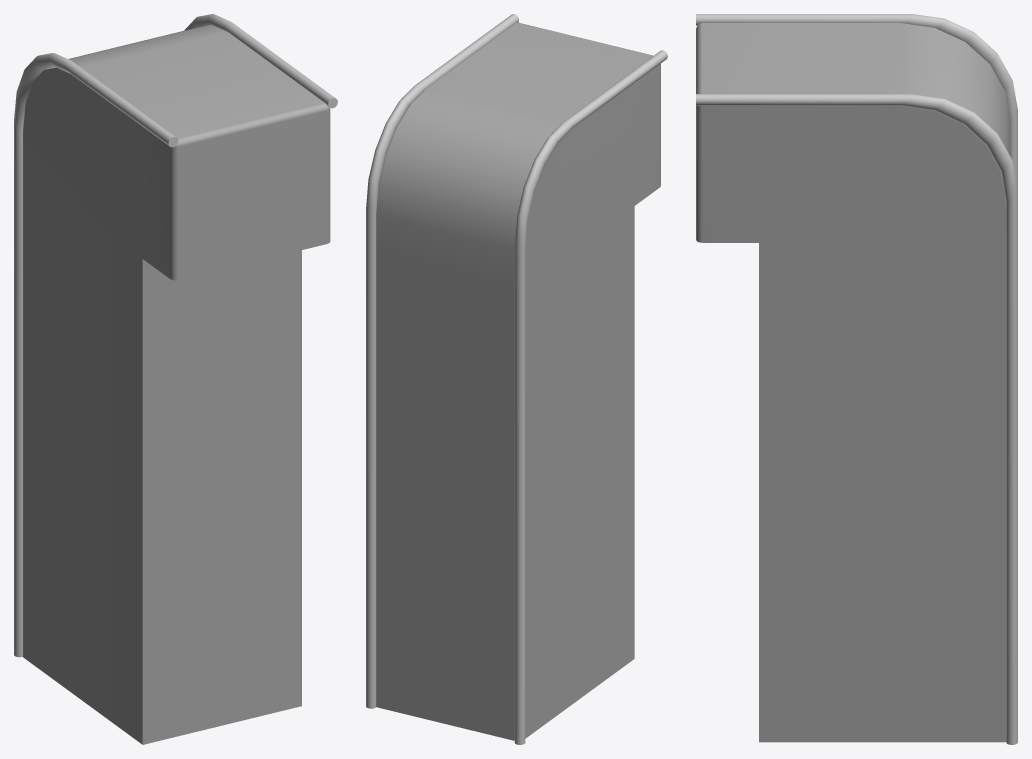
File: SM_Building03_Deco02R.fbx
The picture shows the model from 3 angles, left to right: view 1: azimuth 30°, elevation 25°; view 2: azimuth 150°, elevation 25°; view 3: azimuth 270°, elevation 25°; orthographic projection. The views are drawn at different scales.
Visible parts, largest first — view 1: SM_Building03_Deco02R_LOD0; view 2: SM_Building03_Deco02R_LOD0; view 3: SM_Building03_Deco02R_LOD0.
Part boxes in pixels (left/top/right/bottom): SM_Building03_Deco02R_LOD0: left=14, top=14, right=337, bottom=744; SM_Building03_Deco02R_LOD0: left=366, top=14, right=667, bottom=744; SM_Building03_Deco02R_LOD0: left=696, top=14, right=1017, bottom=744.
Bounding box in the file's own units: 128 × 204 × 454.
Materials: 2 (1 with a texture image).
